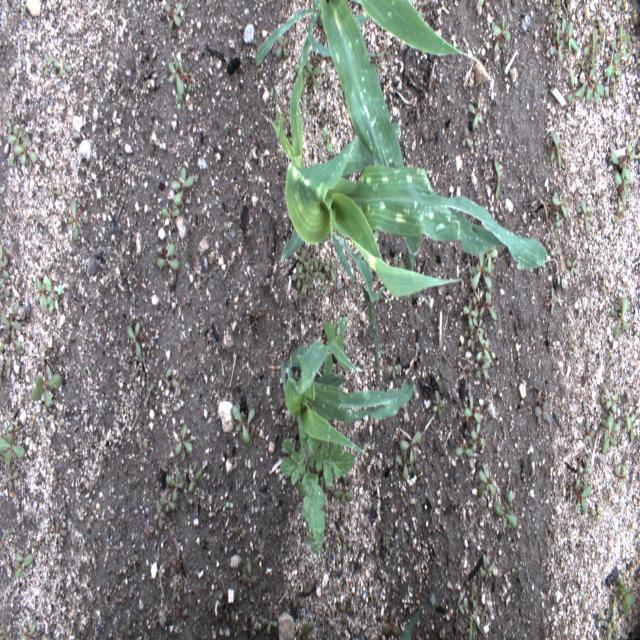crop: (262, 21, 560, 402), (255, 0, 480, 313), (280, 340, 416, 455), (400, 600, 433, 640), (469, 614, 488, 640)
weed: (280, 392, 355, 556), (302, 62, 332, 122), (323, 315, 349, 381), (29, 366, 62, 407), (469, 241, 492, 290), (0, 423, 25, 465), (610, 142, 636, 182), (170, 166, 194, 209), (232, 404, 255, 446), (551, 18, 579, 52), (168, 58, 193, 96), (608, 295, 629, 340), (491, 498, 518, 532), (68, 198, 88, 242), (581, 68, 605, 104), (332, 466, 354, 504), (399, 430, 422, 464), (491, 15, 511, 54), (14, 133, 38, 165), (156, 241, 180, 273), (612, 584, 634, 618), (583, 28, 600, 72), (43, 275, 63, 312), (164, 468, 184, 504), (572, 478, 591, 515), (1, 304, 22, 336), (126, 319, 142, 361), (395, 439, 411, 481), (480, 237, 498, 274), (548, 188, 568, 221), (601, 414, 616, 457), (463, 394, 483, 426), (566, 71, 586, 103), (614, 167, 630, 207), (462, 298, 479, 333), (466, 95, 484, 128), (547, 131, 563, 168), (549, 28, 566, 62), (260, 604, 278, 636), (478, 291, 497, 321), (175, 423, 192, 455), (52, 54, 72, 81), (382, 609, 401, 637), (305, 58, 322, 89), (478, 468, 497, 495), (186, 465, 203, 495), (289, 261, 306, 291), (602, 72, 620, 100), (534, 399, 553, 425), (240, 559, 258, 586), (476, 460, 489, 496), (492, 160, 504, 199), (168, 2, 184, 31), (577, 456, 591, 489), (171, 372, 188, 398), (164, 2, 181, 28), (42, 49, 57, 78), (476, 333, 491, 362), (612, 26, 630, 50), (39, 344, 50, 383), (385, 356, 402, 381), (34, 277, 48, 307), (317, 126, 332, 154), (324, 255, 339, 283), (339, 596, 354, 624), (479, 553, 494, 581), (7, 138, 20, 170), (15, 552, 32, 576), (0, 468, 18, 490), (506, 488, 517, 524), (455, 439, 473, 461), (160, 491, 177, 514), (432, 388, 445, 418), (545, 286, 558, 316), (8, 123, 24, 147), (470, 421, 482, 453), (589, 501, 605, 525), (613, 463, 627, 490), (604, 387, 618, 413), (153, 498, 164, 531), (162, 207, 182, 225), (46, 182, 62, 204), (10, 325, 23, 352), (296, 247, 310, 272), (4, 113, 19, 136), (294, 53, 309, 76), (605, 614, 618, 640), (42, 52, 54, 80), (275, 34, 289, 58), (584, 420, 596, 448), (298, 617, 313, 639), (337, 86, 350, 111), (253, 539, 265, 566), (581, 198, 590, 233), (613, 44, 628, 65), (393, 254, 404, 282), (595, 608, 609, 630), (19, 621, 36, 639), (470, 430, 487, 448), (474, 360, 491, 378), (55, 521, 68, 544), (467, 324, 477, 353), (170, 582, 182, 606), (313, 258, 325, 282), (0, 255, 11, 281), (472, 316, 485, 338), (612, 201, 625, 223), (601, 418, 621, 432), (4, 246, 19, 264), (160, 367, 172, 389), (566, 258, 578, 280), (14, 552, 34, 565), (182, 214, 195, 234), (570, 328, 580, 354), (120, 616, 132, 637), (547, 12, 561, 30), (302, 620, 315, 639), (165, 554, 176, 576), (339, 530, 350, 552), (598, 382, 609, 404), (46, 0, 56, 24), (606, 62, 621, 78), (233, 526, 246, 544), (549, 215, 562, 233), (0, 277, 11, 298), (550, 242, 562, 261), (614, 296, 628, 312), (52, 468, 63, 488), (0, 622, 12, 640), (136, 433, 148, 451), (380, 36, 389, 60), (469, 580, 476, 610), (624, 411, 631, 441), (1, 66, 12, 85), (248, 614, 256, 640), (598, 19, 605, 48), (144, 382, 154, 402), (462, 128, 472, 148), (550, 2, 560, 21), (575, 204, 593, 214), (66, 140, 77, 156), (293, 596, 304, 612), (548, 522, 556, 544), (5, 355, 12, 380), (344, 278, 354, 295), (319, 475, 329, 492), (20, 38, 26, 66), (564, 160, 571, 184), (394, 431, 405, 446), (467, 286, 476, 304), (0, 530, 8, 550), (301, 274, 309, 294), (576, 58, 586, 74), (321, 279, 333, 292), (0, 245, 8, 263), (57, 348, 66, 364), (169, 512, 178, 528), (183, 68, 192, 84), (619, 576, 627, 594), (584, 57, 592, 75), (278, 110, 289, 123), (332, 280, 339, 300), (31, 540, 43, 551), (177, 550, 183, 572), (600, 278, 608, 294), (44, 402, 53, 416), (481, 162, 490, 176), (231, 610, 236, 634), (377, 52, 383, 72), (620, 408, 628, 423), (18, 360, 25, 377), (260, 194, 266, 213), (417, 7, 423, 26), (52, 341, 60, 355), (460, 601, 468, 615), (455, 14, 463, 28), (241, 228, 252, 238), (77, 197, 86, 209), (176, 92, 182, 110), (305, 284, 314, 296), (21, 0, 28, 15), (33, 213, 41, 226), (405, 491, 410, 511), (625, 122, 630, 142), (571, 393, 580, 404), (478, 0, 490, 8), (510, 500, 518, 511), (0, 45, 6, 59), (4, 422, 12, 432), (224, 501, 234, 509), (454, 242, 458, 262), (0, 337, 5, 352), (491, 180, 497, 192), (582, 406, 586, 424), (568, 481, 572, 497), (613, 630, 619, 640), (566, 0, 572, 10), (604, 405, 608, 418), (86, 365, 91, 375), (580, 590, 586, 598), (270, 86, 274, 97), (308, 257, 314, 264), (554, 0, 560, 5)
